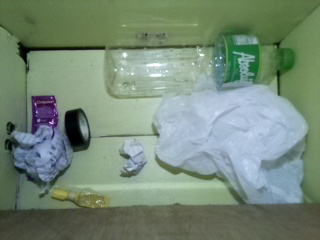bottle: (105, 34, 295, 98)
paper: (10, 125, 73, 189), (119, 139, 148, 177)
plastic-bag: (153, 81, 309, 206)
